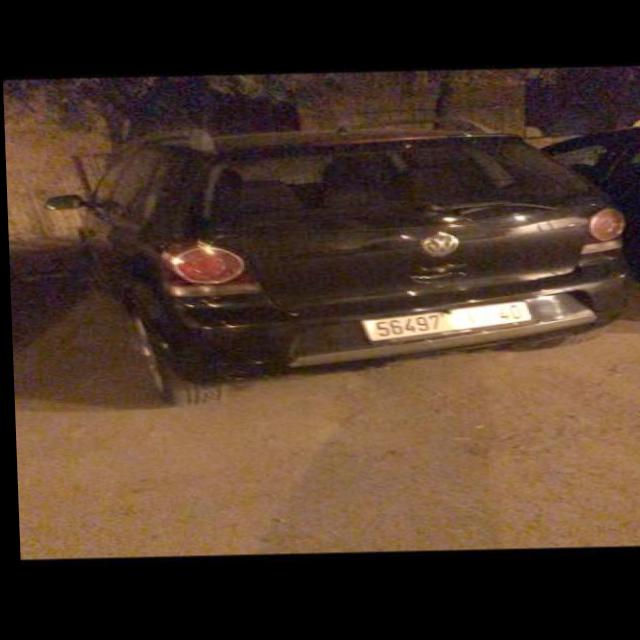License-Plate: (362, 304, 527, 342)
